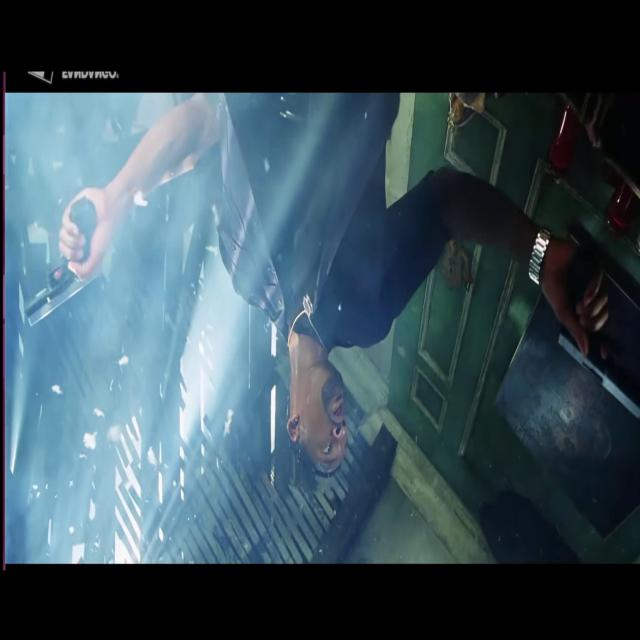weapons: (16, 190, 110, 346), (554, 278, 640, 430)
